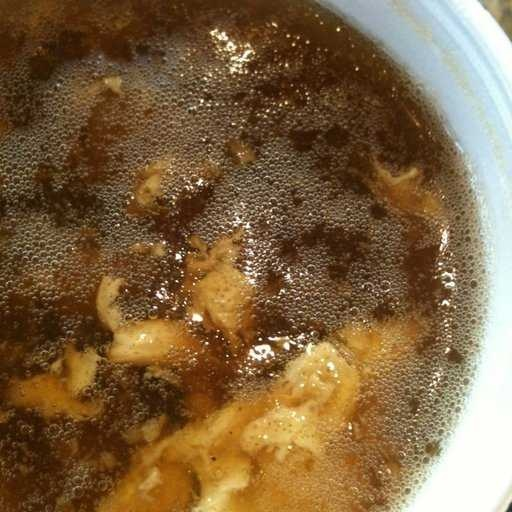soup: (1, 1, 508, 508)
